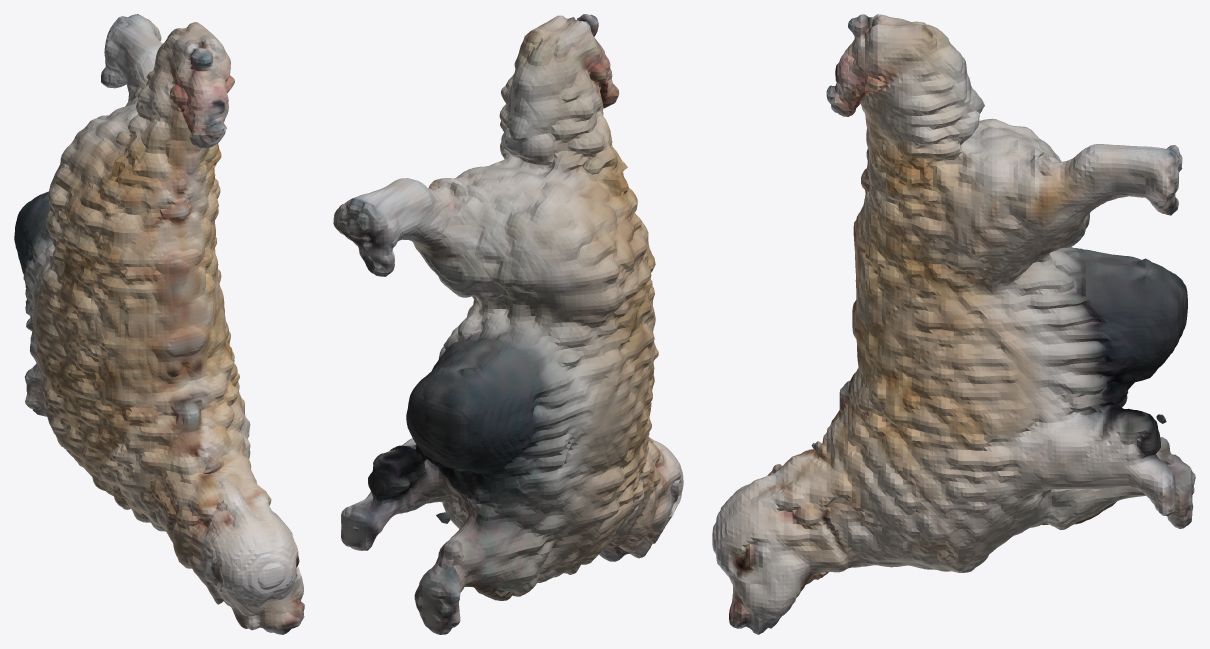
The picture shows the model from 3 angles, left to right: view 1: azimuth 30°, elevation 25°; view 2: azimuth 150°, elevation 25°; view 3: azimuth 270°, elevation 25°; orthographic projection. The views are drawn at different scales.
Parts seen in each view (by area): view 1: world; view 2: world; view 3: world.
Boxes of the visible parts, bbox=[...] form: world: bbox=[14, 14, 304, 634]; world: bbox=[333, 14, 683, 634]; world: bbox=[712, 14, 1195, 634].
Bounding box in the file's own units: 0.4003 × 1.07 × 0.7755.
